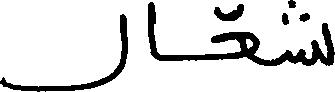X: (0, 9, 128, 91), (212, 0, 258, 68), (288, 0, 315, 70), (147, 0, 157, 64), (323, 18, 334, 70)
